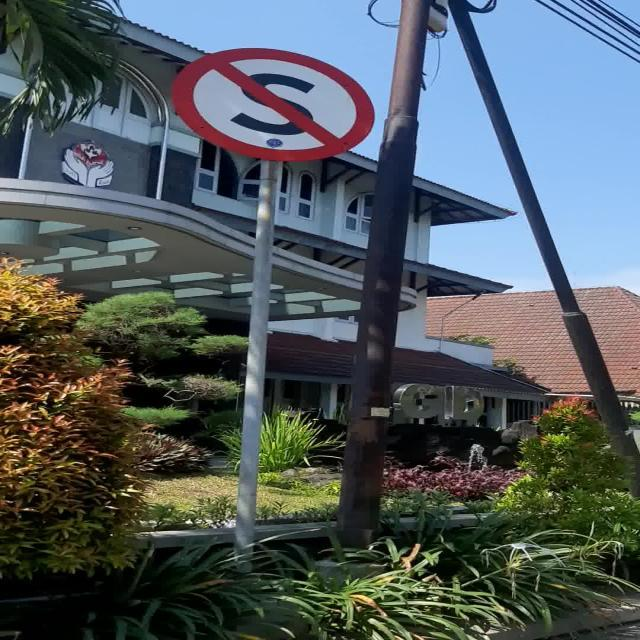Dilarang Berhenti: (172, 48, 374, 161)
